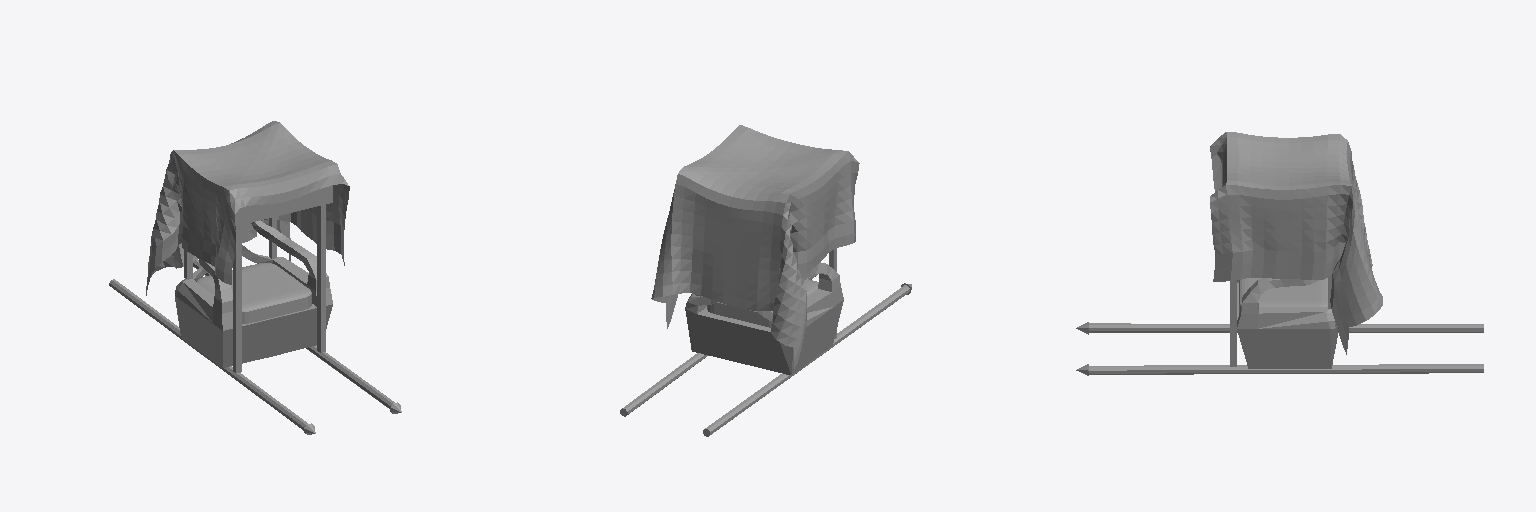
The model's file is stoffding.obj.
The picture shows the model from 3 angles: view 1: azimuth 30°, elevation 25°; view 2: azimuth 150°, elevation 25°; view 3: azimuth 270°, elevation 25°; orthographic projection.
Parts seen in each view (by area): view 1: Plane, Sphere_Sphere.001, Cube.002_Cube.001, Cube_Cube.004, Cube.001_Cube.002; view 2: Plane, Sphere_Sphere.001, Cube.002_Cube.001; view 3: Plane, Sphere_Sphere.001, Cube.002_Cube.001, Cube_Cube.004.
Part boxes in pixels (left/top/right/bottom): Plane: left=146, top=121, right=349, bottom=295; Sphere_Sphere.001: left=109, top=220, right=401, bottom=434; Cube.002_Cube.001: left=196, top=263, right=311, bottom=323; Cube_Cube.004: left=184, top=205, right=325, bottom=373; Cube.001_Cube.002: left=235, top=185, right=332, bottom=225; Plane: left=651, top=125, right=859, bottom=368; Sphere_Sphere.001: left=620, top=262, right=911, bottom=436; Cube.002_Cube.001: left=707, top=279, right=818, bottom=327; Plane: left=1210, top=132, right=1382, bottom=354; Sphere_Sphere.001: left=1076, top=278, right=1483, bottom=375; Cube.002_Cube.001: left=1239, top=278, right=1327, bottom=312; Cube_Cube.004: left=1230, top=275, right=1331, bottom=366.
Bounding box in the file's own units: 2.05 × 2.69 × 5.07.